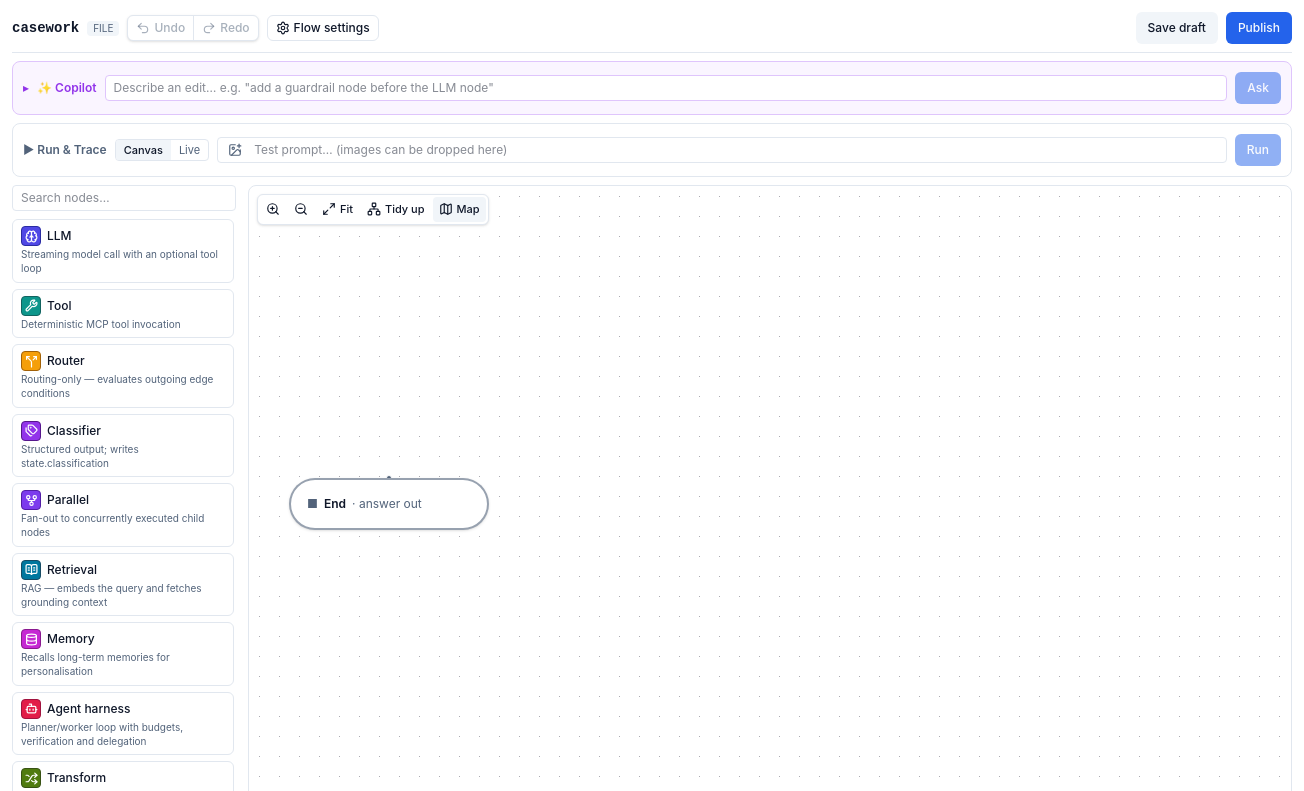
Test: StudioBuilder › Save draft stores the canvas via PUT /draft and keeps flow-level fields
Click the button "Save draft" at (1177, 28), box [1136, 12, 1218, 44]
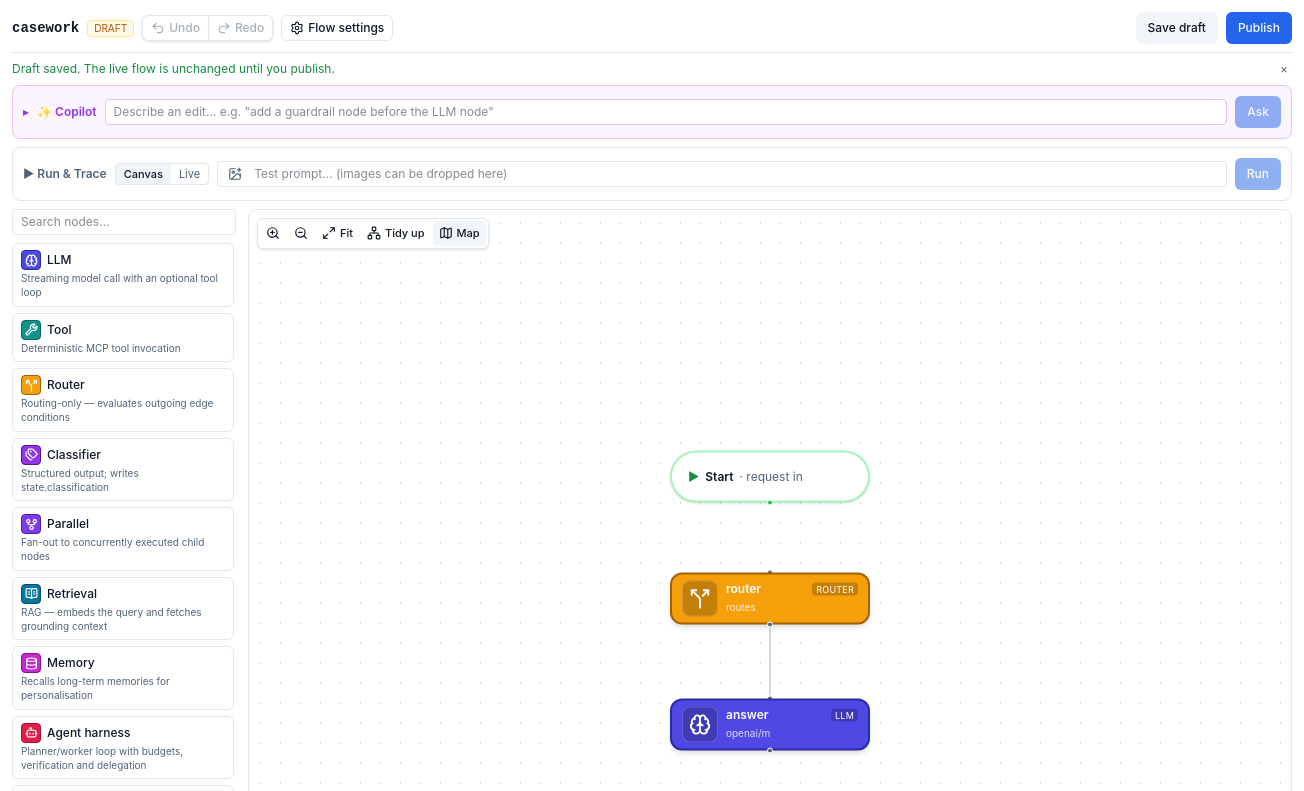
expect the text "draft" is shown: met, box [87, 20, 134, 36]
expect the text "Draft saved. The live flow is unchanged until you publish." is shown: met, box [12, 61, 335, 77]
